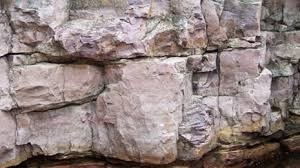obstacle: (0, 0, 299, 166)
